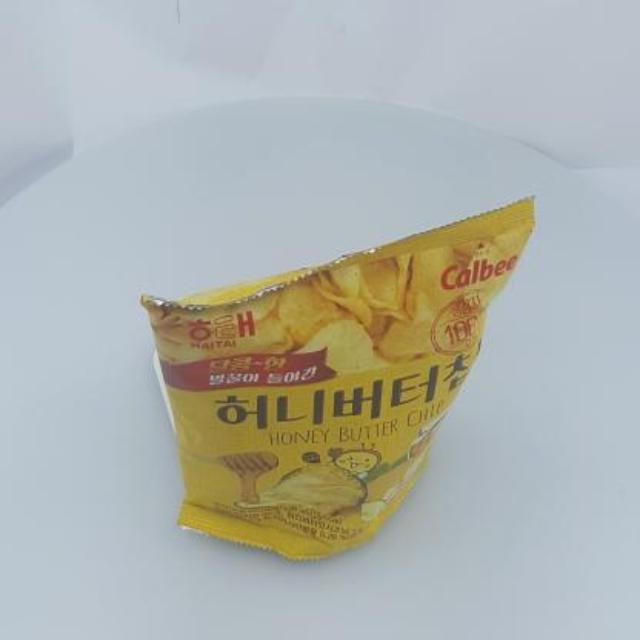snack_bag: (136, 186, 558, 566)
